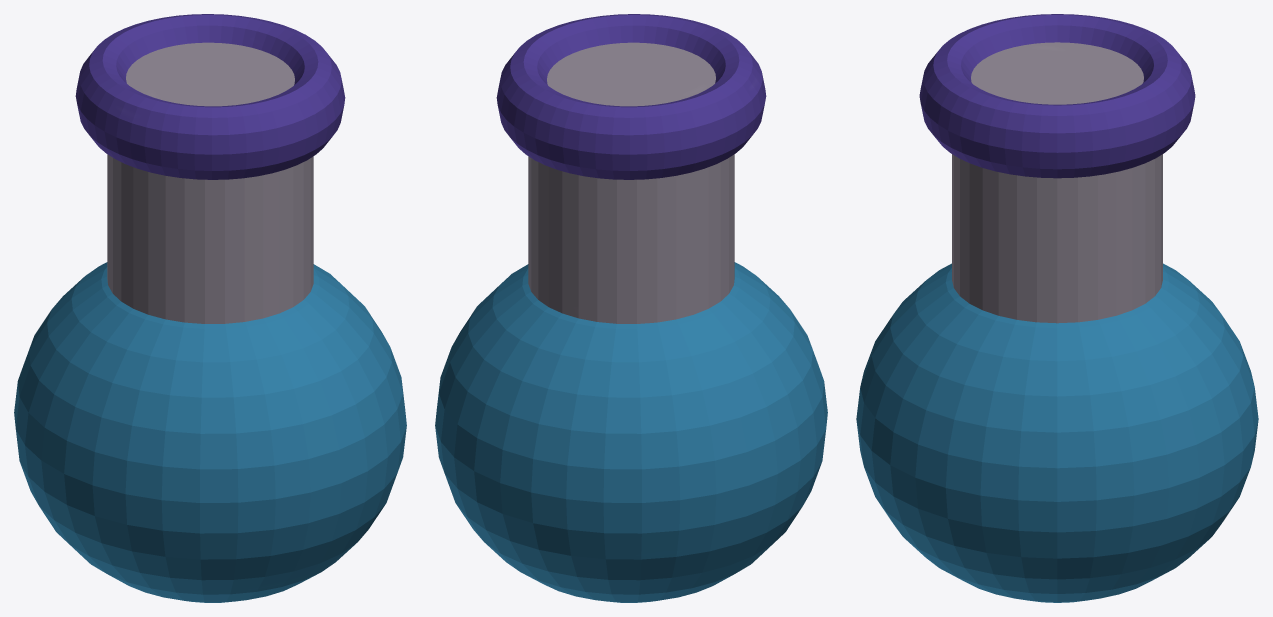
The model's file is health.fbx.
3 views of the same model, side by side, from view 1: azimuth 30°, elevation 25°; view 2: azimuth 150°, elevation 25°; view 3: azimuth 270°, elevation 25° (orthographic).
Visible parts, largest first — view 1: Torus.002; view 2: Torus.002; view 3: Torus.002.
Part boxes in pixels (x1,y1,x2,y2): Torus.002: (14,14,406,602); Torus.002: (435,14,827,602); Torus.002: (856,14,1258,602).
Size of the model in its own units: 247 by 365 by 254.
